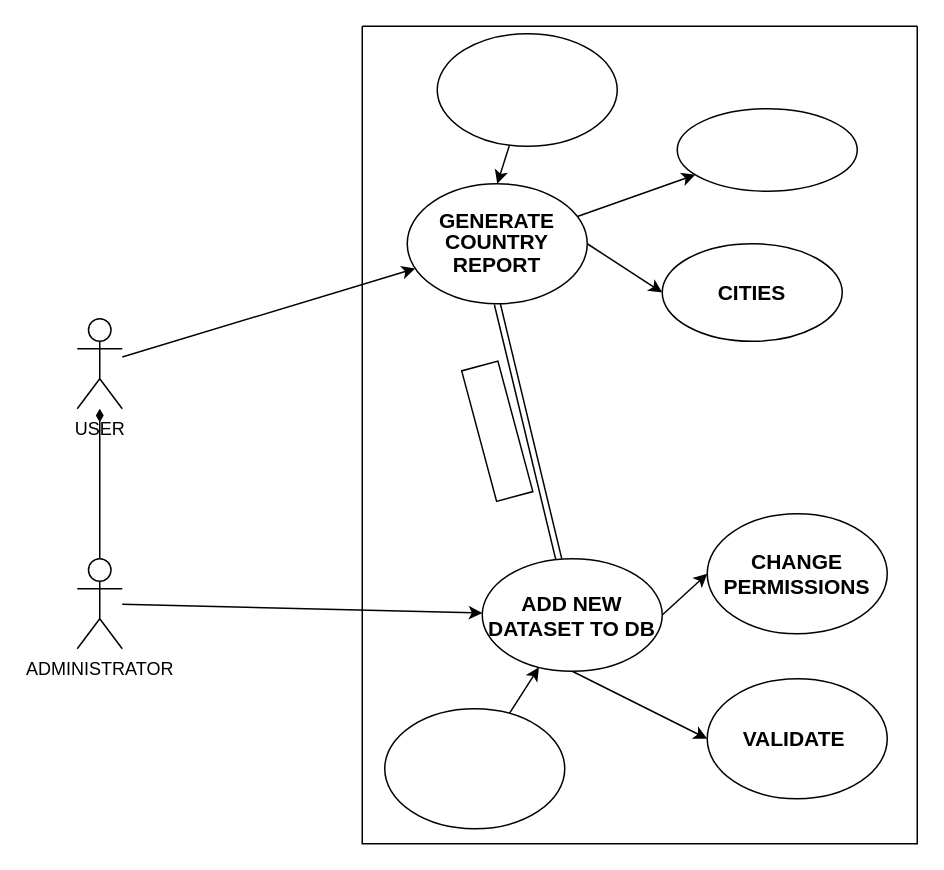
Some shapes in this 944 by 870 pixel diagram are drawn without their labels. Here are the shapes that lost their labels. From the top down, the centre of each, then its label:
(526,89): BOROUGH POPULATION
(766,149): WORLD POPULATION
(496,430): INITIATES
(474,768): ADD OR REMOVE
